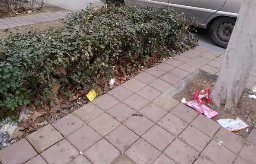garbage: (184, 88, 225, 121), (212, 114, 251, 135), (17, 103, 46, 130), (1, 118, 23, 141), (78, 86, 101, 105), (105, 74, 117, 85)
